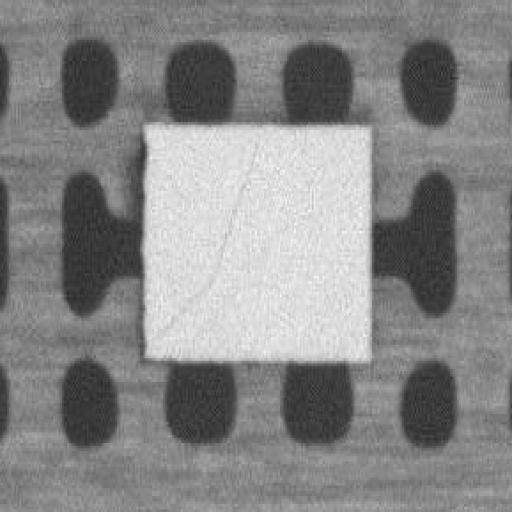DIE_CRACK: (143, 136, 257, 342)
